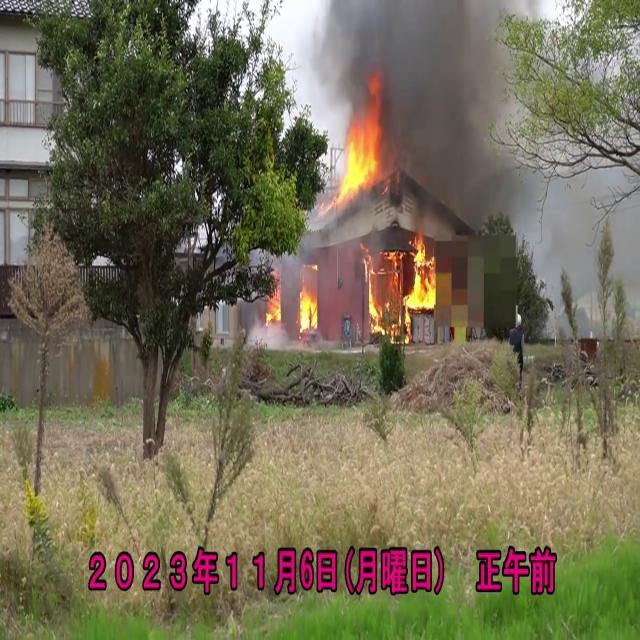Fire: (363, 230, 441, 336), (333, 94, 387, 206)
Smoke: (316, 0, 524, 213)
